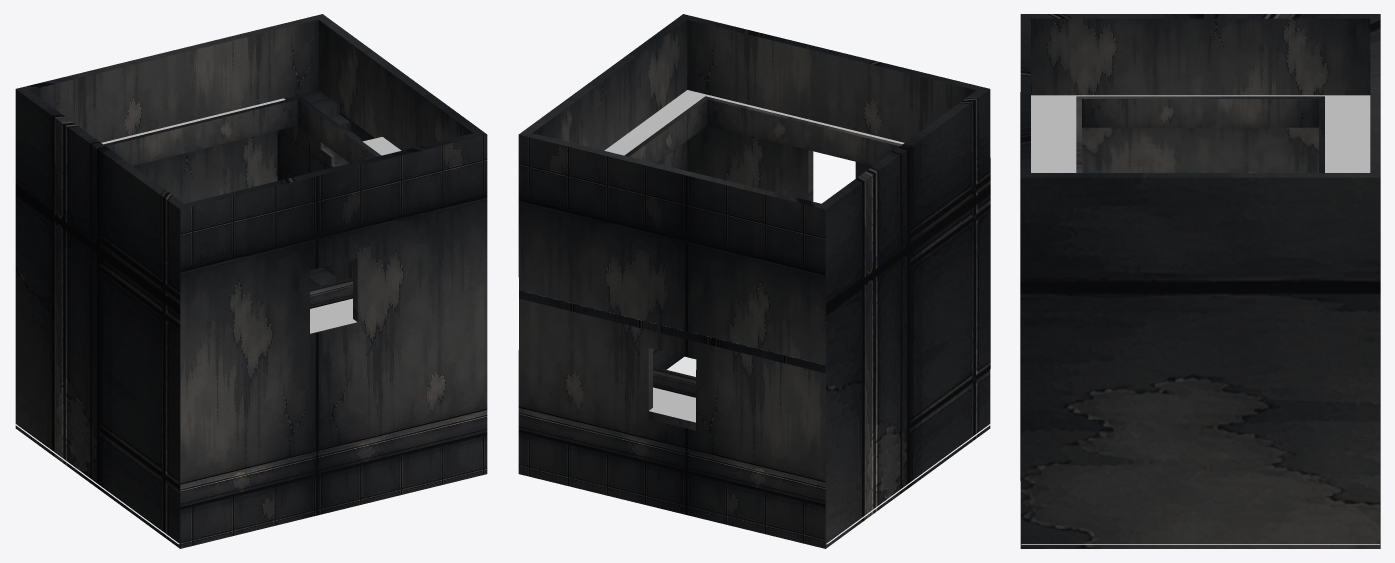
The model's file is Escadaria.fbx.
3 renders of one model, left to right at view 1: azimuth 30°, elevation 25°; view 2: azimuth 150°, elevation 25°; view 3: azimuth 270°, elevation 25°, orthographic. The views are drawn at different scales.
Parts seen in each view (by area): view 1: paredes, 3_andar, 2_3, 2_anda; view 2: paredes, 3_andar, 2_anda, 1_anda, CHAO; view 3: paredes, 3_andar.
Part boxes in pixels (left/top/right/bottom): paredes: left=15, top=14, right=487, bottom=548; 3_andar: left=101, top=96, right=401, bottom=165; 2_3: left=277, top=90, right=361, bottom=180; 2_anda: left=310, top=278, right=357, bottom=334; paredes: left=518, top=14, right=990, bottom=548; 3_andar: left=604, top=90, right=904, bottom=165; 2_anda: left=519, top=290, right=825, bottom=373; 1_anda: left=648, top=366, right=695, bottom=430; CHAO: left=517, top=356, right=990, bottom=544; paredes: left=1020, top=14, right=1380, bottom=548; 3_andar: left=1031, top=95, right=1370, bottom=172.
Size of the model in its own units: 2023 by 2118 by 1864.
